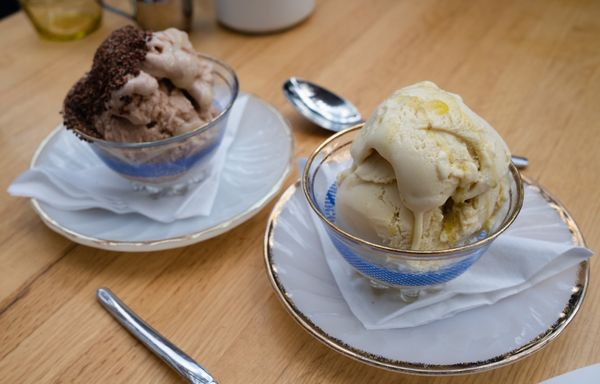salad: (97, 288, 216, 383), (283, 77, 363, 133)
sushi: (300, 101, 525, 292), (64, 29, 239, 189)
